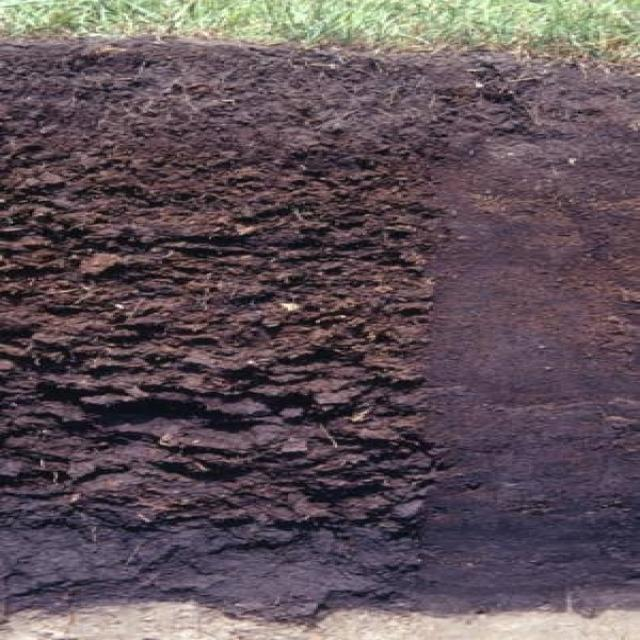suelo_humedo: (59, 7, 607, 540)
